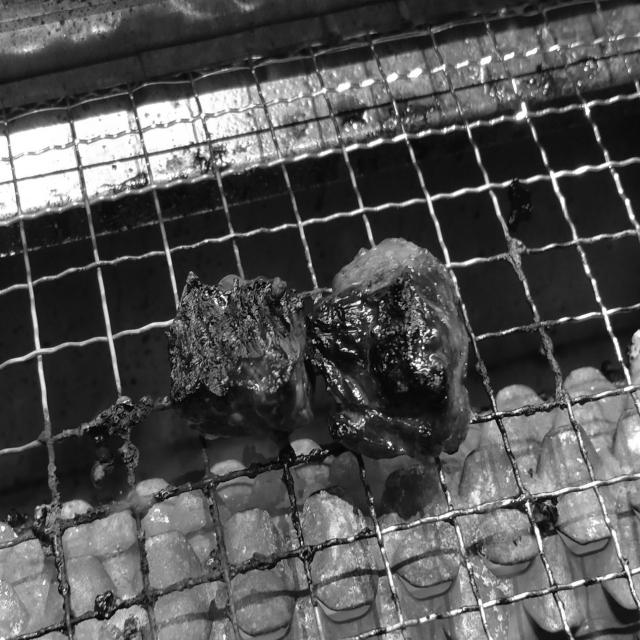overcooked beef,: (156, 224, 500, 467)
